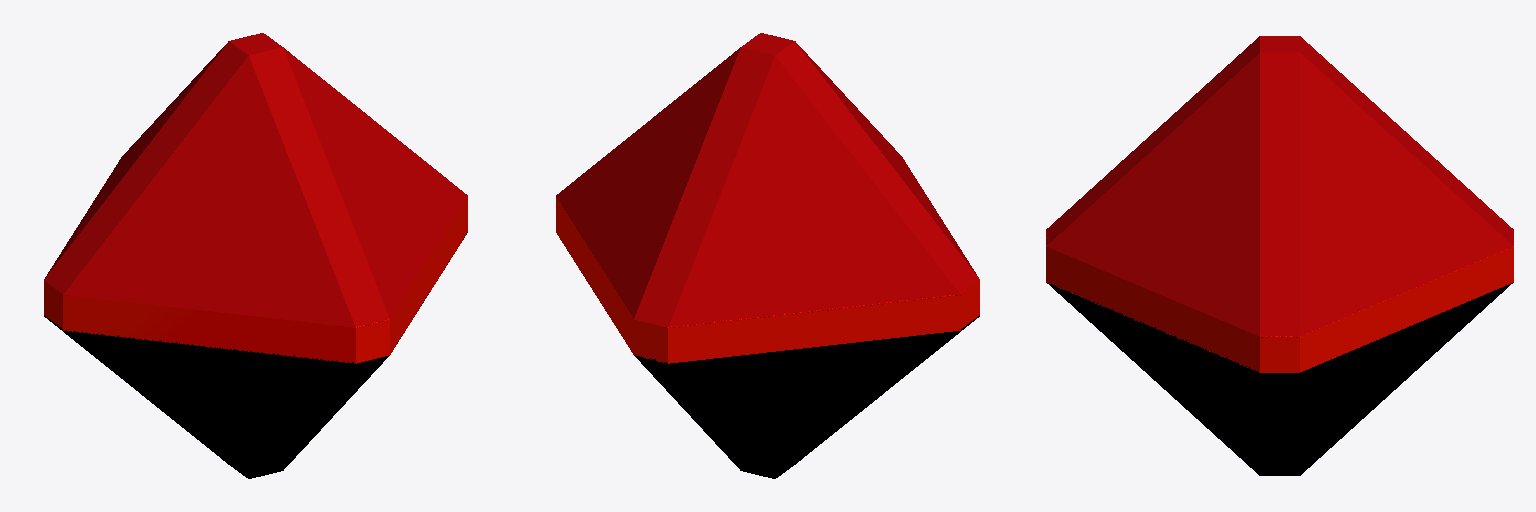
The picture shows the model from 3 angles: view 1: azimuth 30°, elevation 25°; view 2: azimuth 150°, elevation 25°; view 3: azimuth 270°, elevation 25°; orthographic projection.
Visible parts, largest first — view 1: 立方体; view 2: 立方体; view 3: 立方体.
Boxes of the visible parts, x1=… form: 立方体: x1=44, y1=33, x2=467, y2=478; 立方体: x1=556, y1=33, x2=979, y2=478; 立方体: x1=1046, y1=36, x2=1513, y2=475.
Size of the model in its own units: 2 by 2 by 2.
Materials: 1 (1 with a texture image).